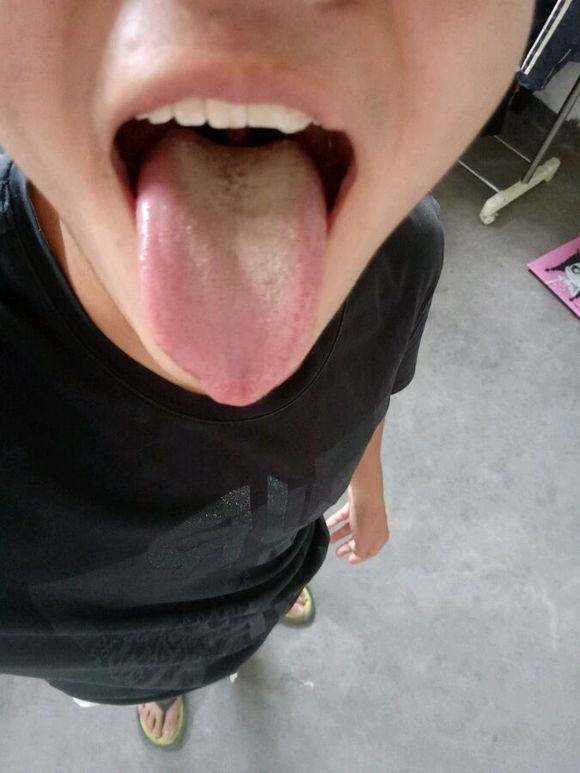huangtaishe: (136, 128, 328, 407)
shenquao: (177, 128, 284, 158)
